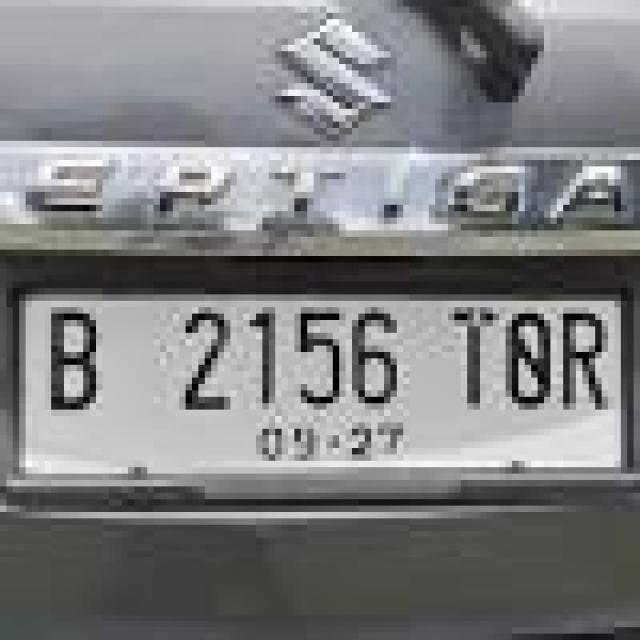lisence-plate: (6, 277, 640, 523)
